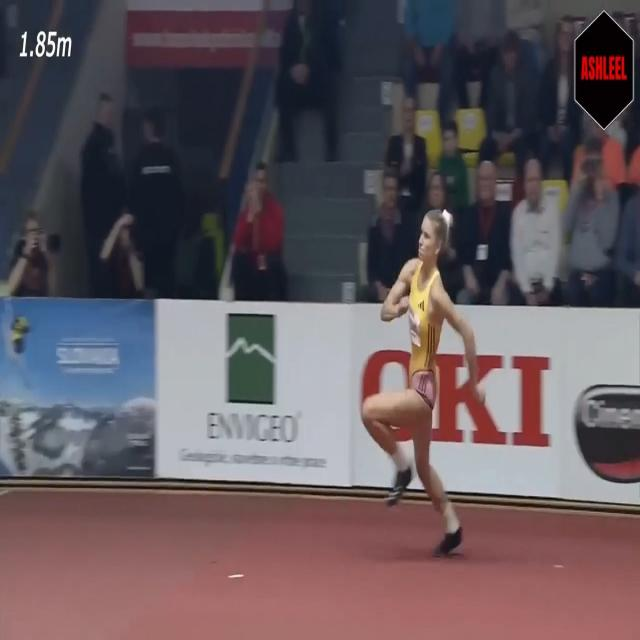run: (361, 206, 485, 559)
